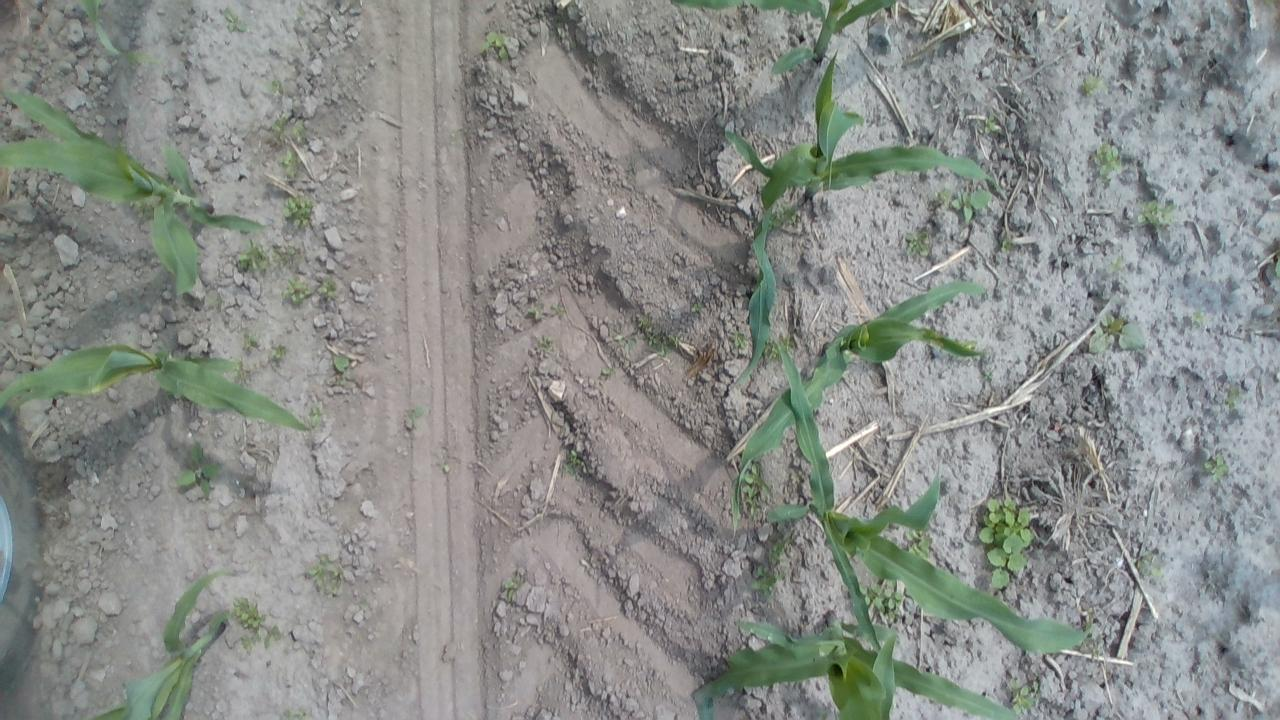Maize: (722, 48, 1016, 397), (726, 280, 992, 540), (755, 476, 1099, 669), (0, 82, 274, 298), (684, 607, 1029, 720), (0, 334, 319, 439), (68, 569, 240, 720), (660, 0, 921, 77), (65, 0, 168, 70)
Weeds: (974, 496, 1038, 594), (230, 592, 288, 659), (749, 532, 795, 606), (172, 440, 226, 500), (1086, 314, 1148, 356), (929, 184, 1000, 220), (633, 312, 684, 358), (304, 556, 351, 598), (857, 582, 906, 622), (741, 461, 772, 518), (1003, 676, 1046, 716), (276, 192, 318, 232), (1130, 198, 1180, 229), (233, 238, 274, 274), (1085, 632, 1134, 662), (901, 223, 939, 260), (1086, 142, 1123, 178), (900, 526, 934, 564), (558, 446, 590, 486), (275, 274, 312, 308), (272, 114, 311, 146), (523, 300, 572, 324), (404, 400, 434, 438), (475, 30, 513, 60), (1134, 549, 1170, 580), (218, 6, 250, 38), (762, 336, 798, 362), (1078, 72, 1114, 98), (1203, 452, 1232, 482), (1223, 382, 1250, 414), (498, 570, 528, 598), (1098, 252, 1130, 278), (277, 702, 323, 720), (271, 245, 307, 268), (974, 114, 1006, 139), (315, 273, 339, 304), (330, 352, 353, 384), (279, 149, 302, 180), (303, 400, 323, 432), (994, 236, 1022, 257), (532, 332, 558, 354), (614, 330, 640, 352), (235, 328, 262, 349), (730, 330, 751, 353), (1188, 307, 1209, 330), (776, 204, 799, 225), (959, 338, 986, 355), (689, 300, 706, 326), (264, 80, 288, 98), (269, 344, 290, 364), (596, 366, 622, 382), (785, 466, 806, 485), (203, 291, 226, 308), (434, 457, 452, 476), (1271, 248, 1280, 285), (356, 598, 374, 614), (293, 5, 307, 19)
